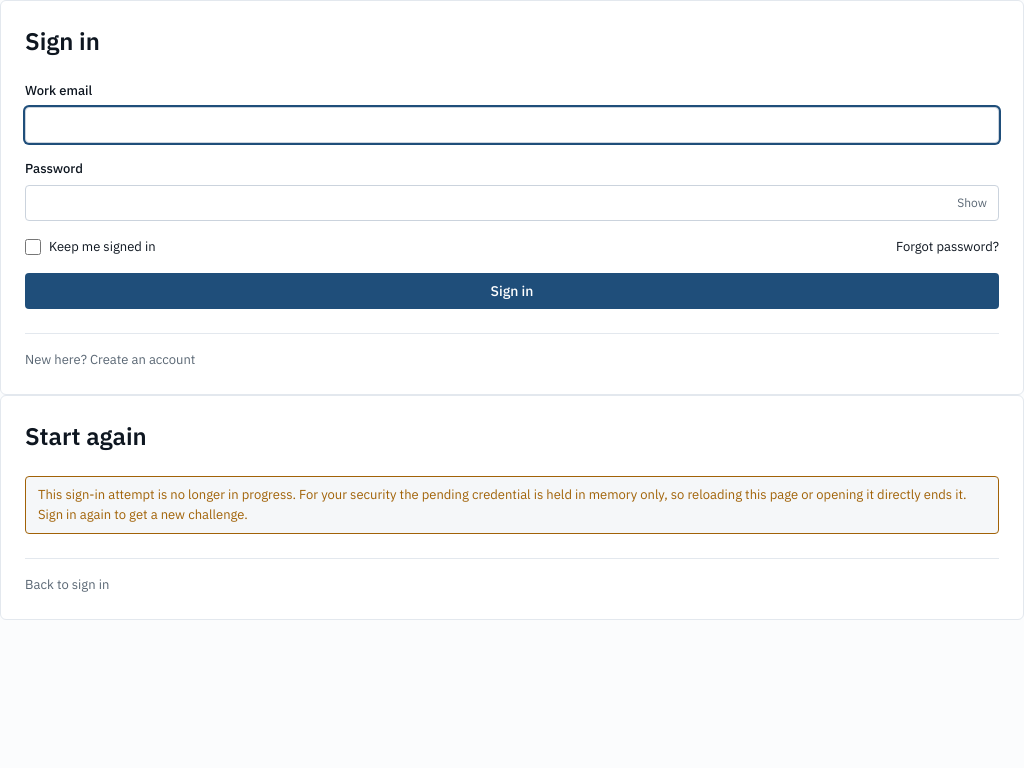
LoginScreen — the redirect target is not trusted › refuses one on the MFA branch too, so the second hop cannot be hijacked
Type "analyst@acme.test" into the field labelled "Work email" at {"x": 512, "y": 125}, box [25, 107, 999, 143]
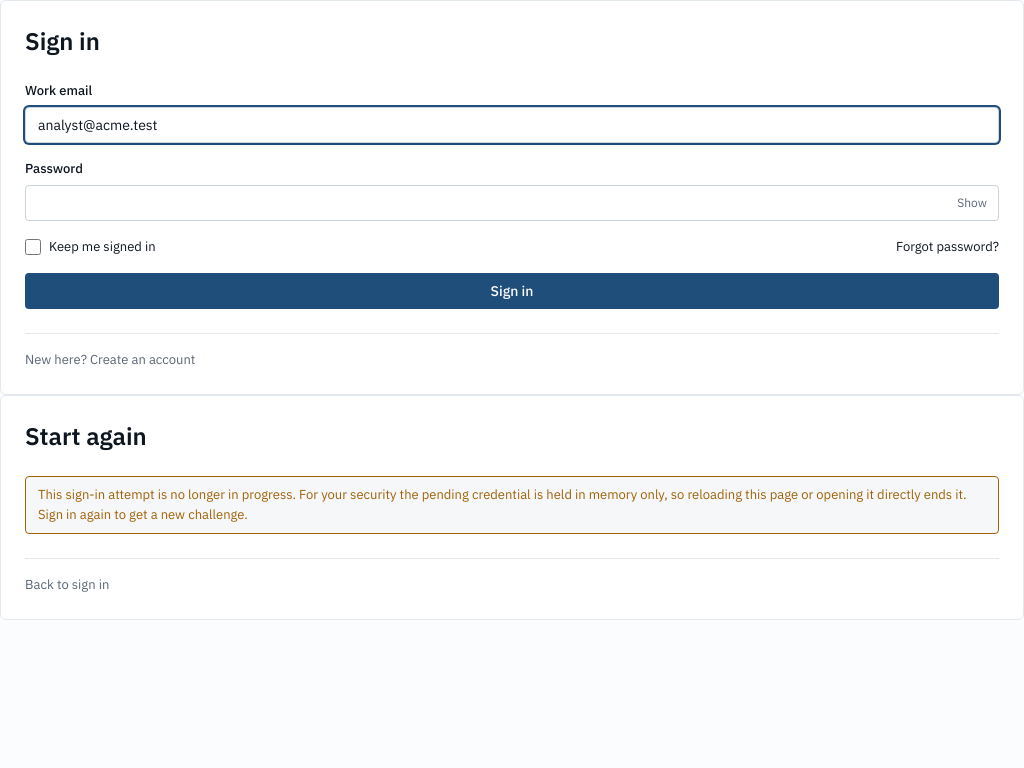
Type "correct horse battery" into the password field labelled "Password" at {"x": 512, "y": 203}, box [25, 185, 999, 221]
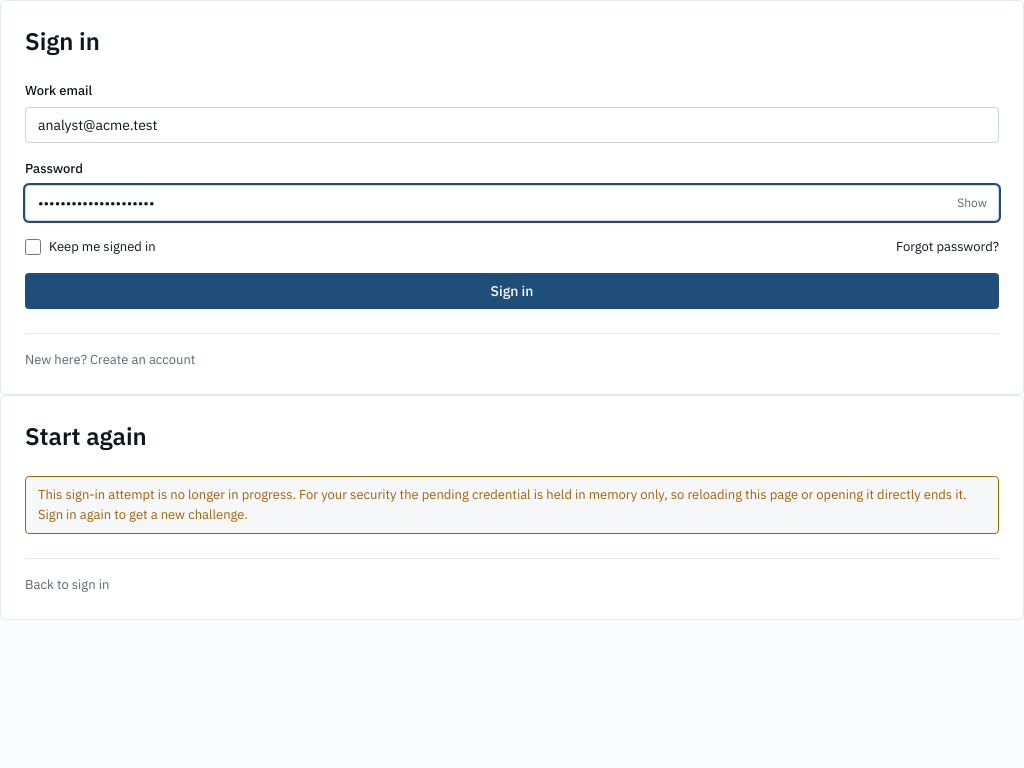
Click the button "Sign in" at {"x": 512, "y": 291}, box [25, 273, 999, 309]
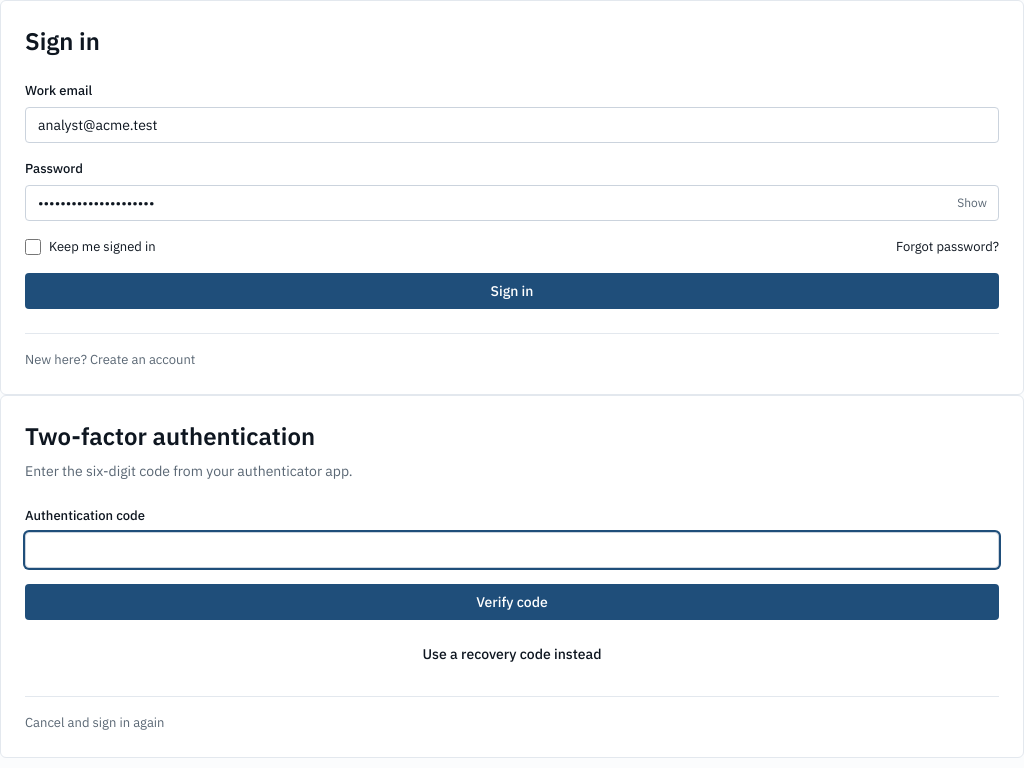
Now the heading "Two-factor authentication" is shown, box [25, 420, 315, 452]
